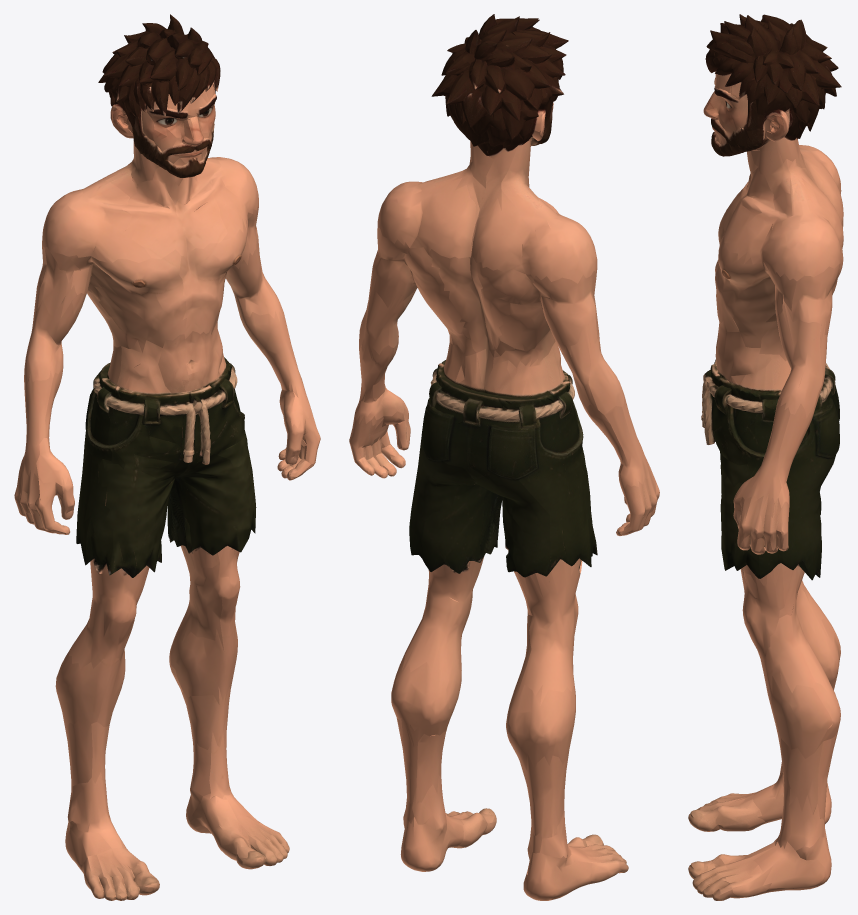
The model's file is Meshy_AI_Rugged_Castaway_1017215425_texture.fbx.
3 renders of one model, left to right at view 1: azimuth 30°, elevation 25°; view 2: azimuth 150°, elevation 25°; view 3: azimuth 270°, elevation 25°, orthographic.
Parts seen in each view (by area): view 1: output_unwrapped; view 2: output_unwrapped; view 3: output_unwrapped.
Part boxes in pixels (x1,y1,x2,y2): output_unwrapped: (14, 14, 320, 900); output_unwrapped: (349, 14, 659, 900); output_unwrapped: (688, 14, 843, 900).
Size of the model in its own units: 69.77 by 190 by 32.01.
1 material, 1 textured.
